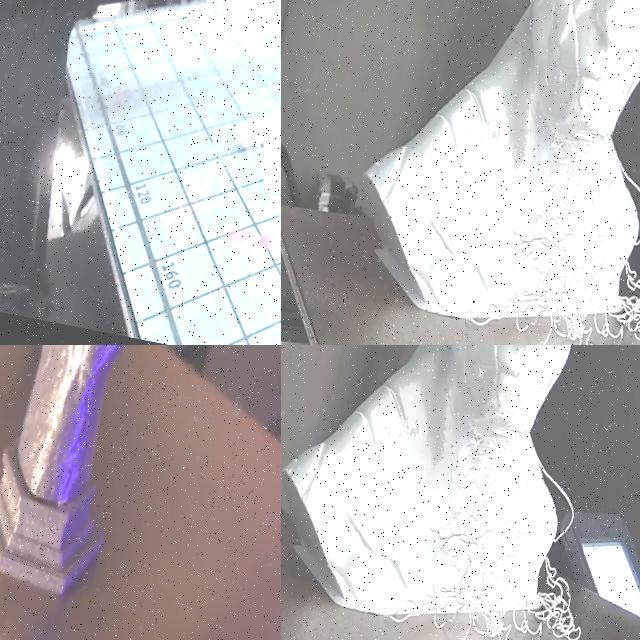spaghetti: (367, 415, 618, 640), (445, 113, 640, 345)
